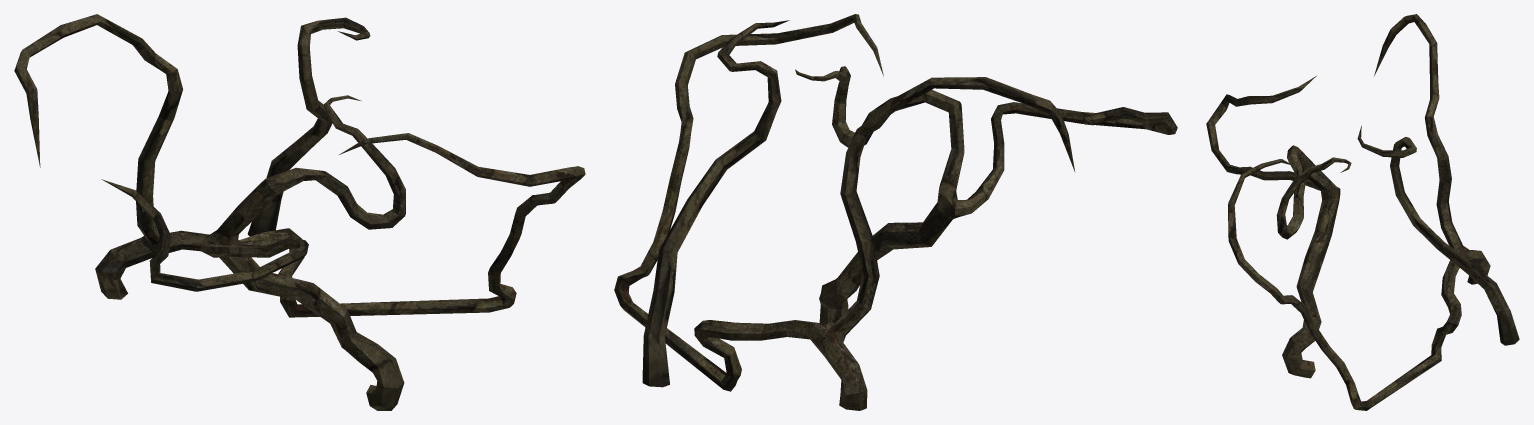
The model's file is Stage_5.fbx.
3 views of the same model, side by side, from view 1: azimuth 30°, elevation 25°; view 2: azimuth 150°, elevation 25°; view 3: azimuth 270°, elevation 25° (orthographic). The views are drawn at different scales.
Visible parts, largest first — view 1: Stage5; view 2: Stage5; view 3: Stage5.
Part boxes in pixels (x1=…): Stage5: x1=14, y1=14, x2=585, y2=410; Stage5: x1=614, y1=14, x2=1177, y2=410; Stage5: x1=1206, y1=14, x2=1519, y2=410.
Size of the model in its own units: 485 by 381 by 395.
